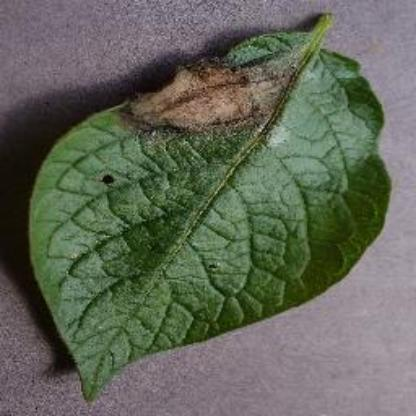Late-Blight: (26, 13, 385, 400)
